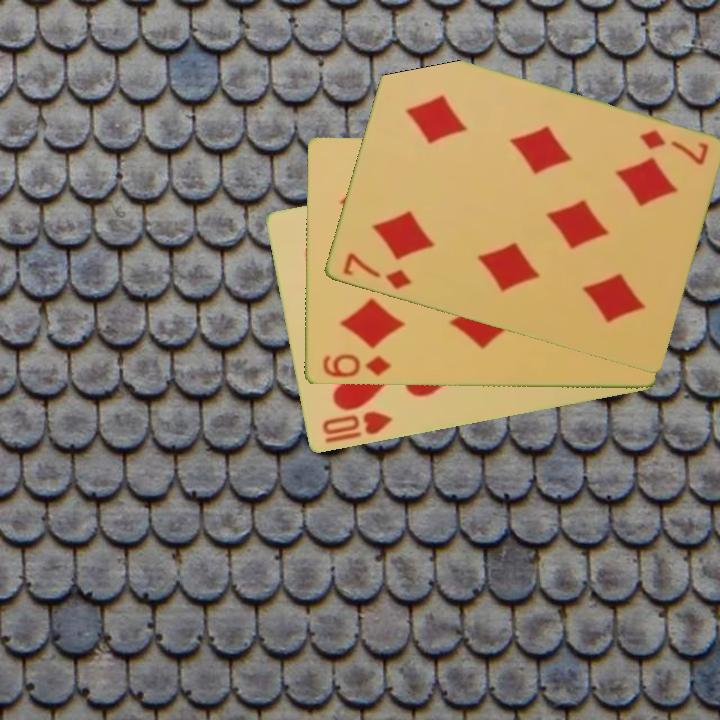10h: (318, 408, 395, 446)
6d: (319, 351, 393, 381)
7d: (635, 126, 711, 169), (339, 250, 413, 293)
